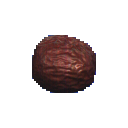gd: (22, 18, 107, 104)
